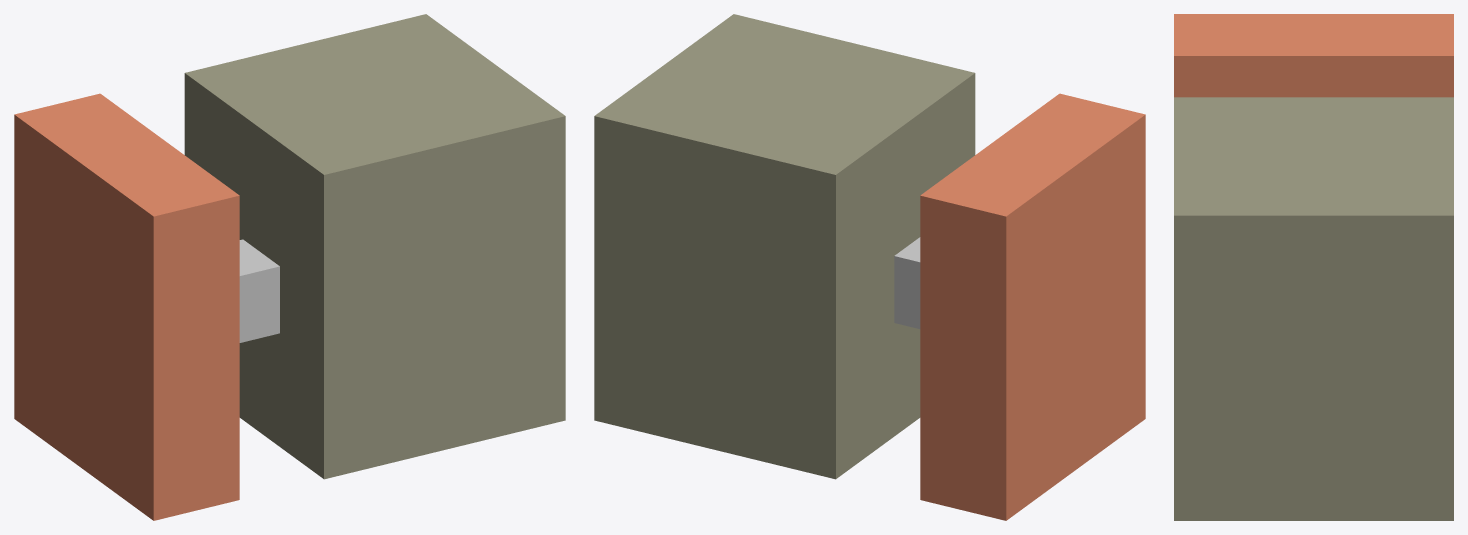
File: tile_pusher.fbx
3 renders of one model, left to right at view 1: azimuth 30°, elevation 25°; view 2: azimuth 150°, elevation 25°; view 3: azimuth 270°, elevation 25°, orthographic.
Parts seen in each view (by area): view 1: Cube, Cube.002, Cube.001; view 2: Cube, Cube.002, Cube.001; view 3: Cube, Cube.002.
Part boxes in pixels (left/top/right/bottom): Cube: left=184, top=14, right=565, bottom=479; Cube.002: left=14, top=93, right=239, bottom=520; Cube.001: left=239, top=239, right=279, bottom=342; Cube: left=594, top=14, right=975, bottom=479; Cube.002: left=920, top=93, right=1145, bottom=520; Cube.001: left=894, top=237, right=920, bottom=328; Cube: left=1174, top=97, right=1453, bottom=520; Cube.002: left=1174, top=14, right=1453, bottom=97.
Bounding box in the file's own units: 341 × 241 × 200.
